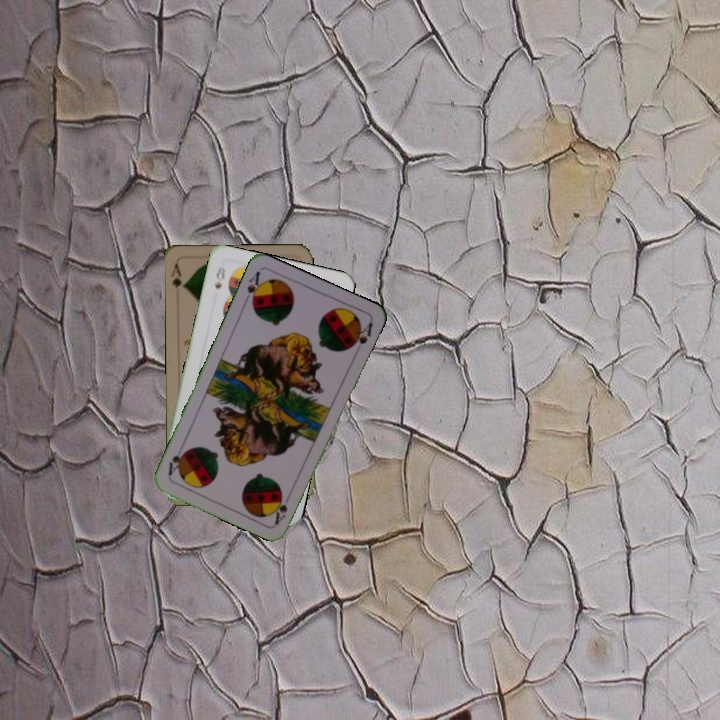GA: (168, 260, 188, 291)
S8: (210, 261, 228, 291)
SA: (240, 267, 265, 309), (270, 488, 294, 527)
